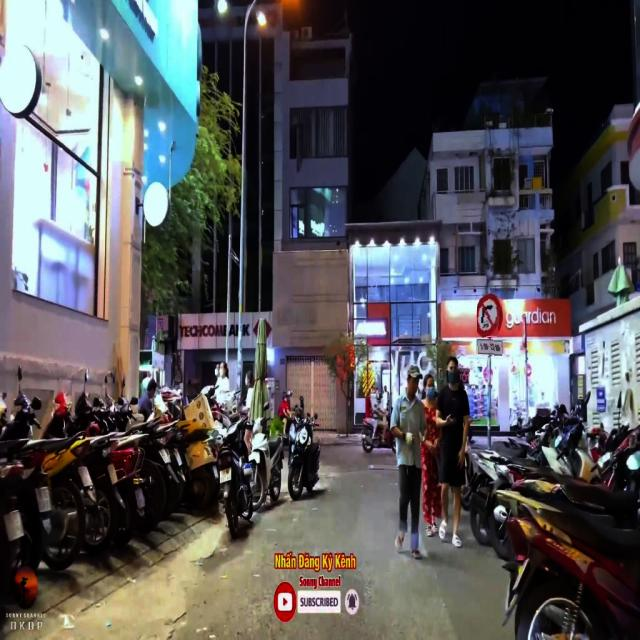cam_o_to_re_phai: (477, 293, 502, 338)
khac: (476, 338, 502, 356)
